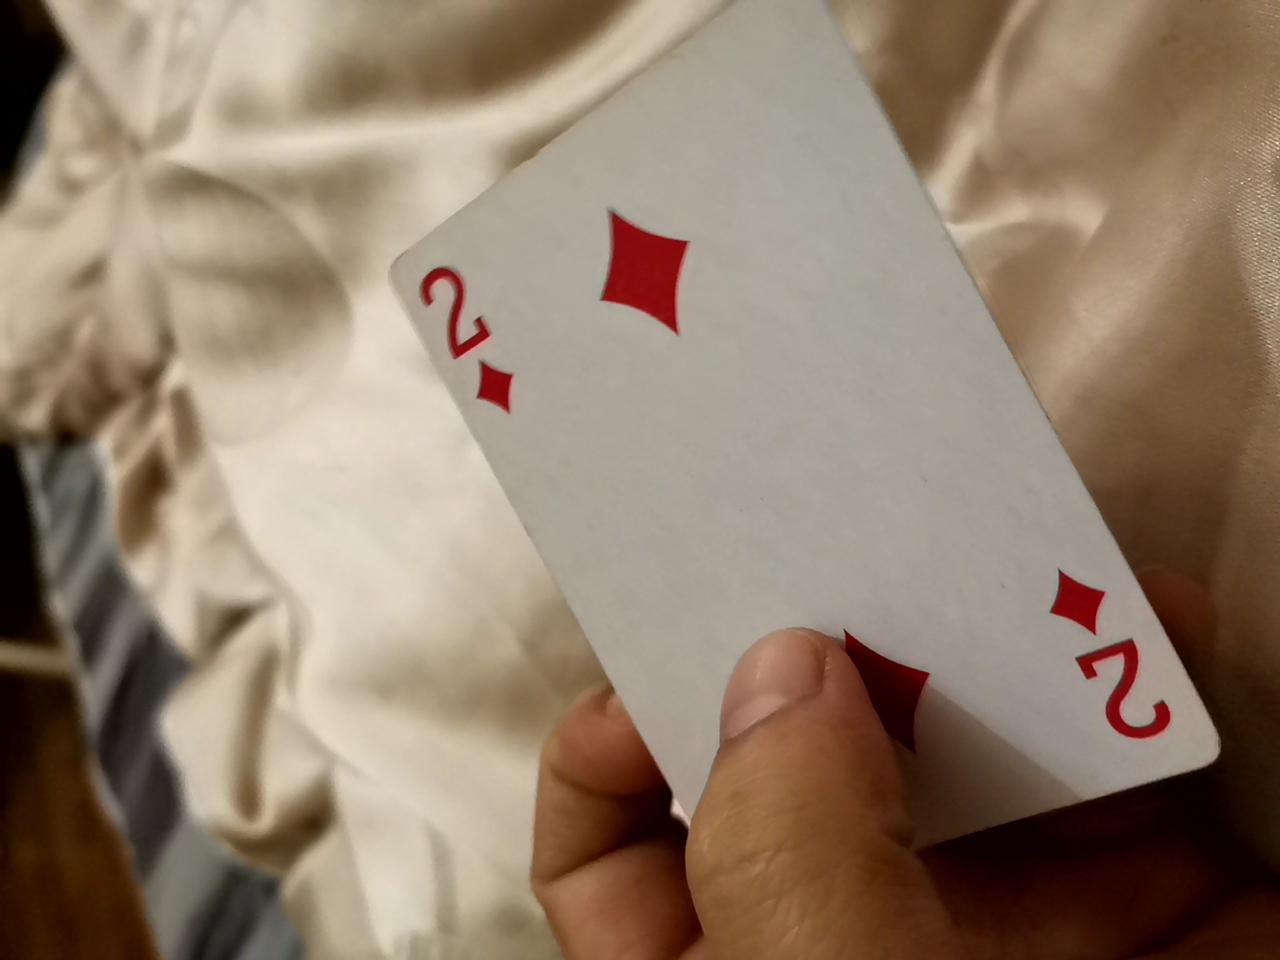fk 2: (358, 14, 1206, 868)
